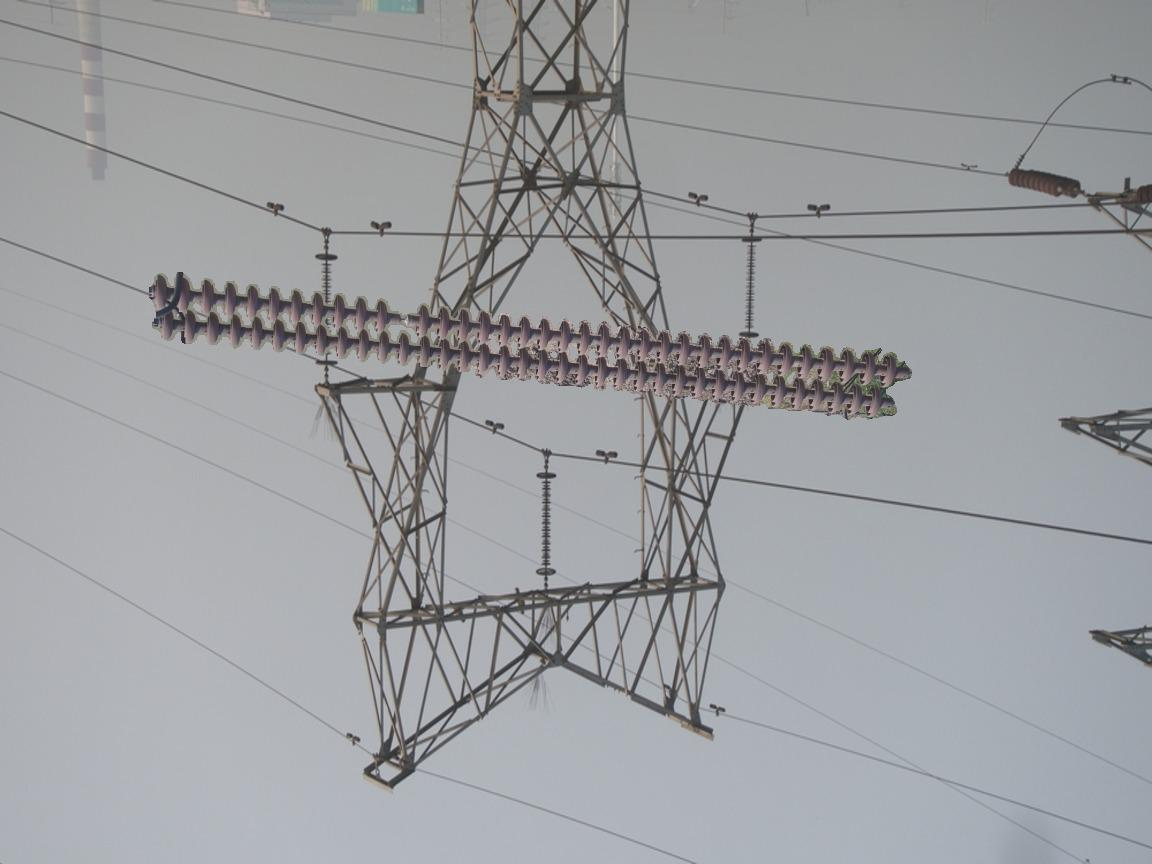insulator: (145, 269, 915, 424), (736, 238, 764, 335), (535, 470, 560, 574)
insulator_stringdrop: (370, 297, 432, 342)
